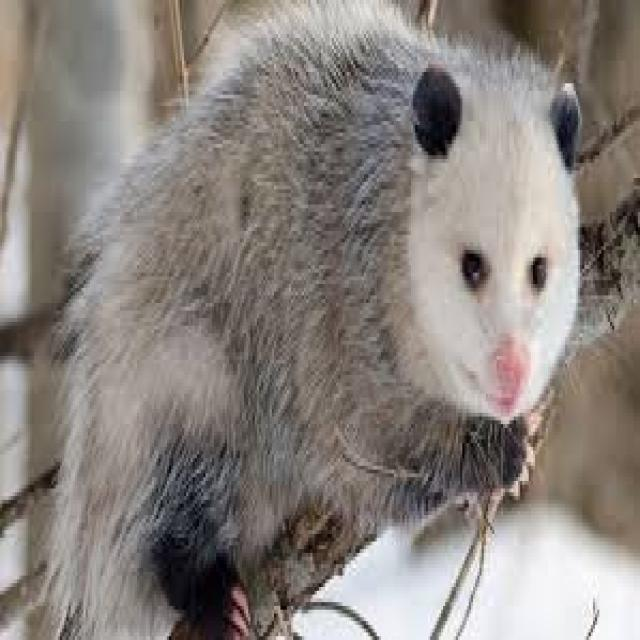Possum: (42, 7, 586, 638)
